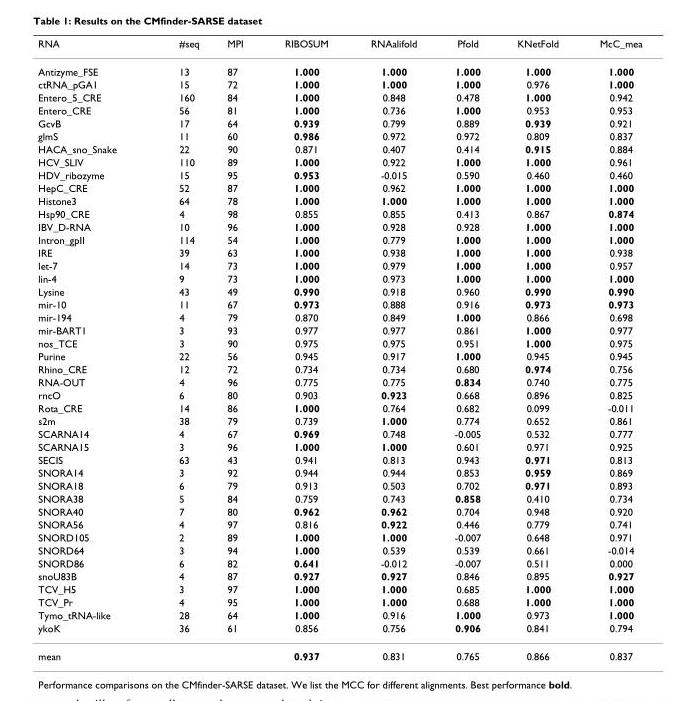table: (37, 37, 641, 661)
table column: (37, 37, 147, 661), (348, 37, 435, 661), (263, 37, 348, 661), (498, 37, 578, 661), (147, 37, 212, 661), (435, 37, 498, 661), (578, 37, 641, 661), (212, 37, 263, 661)
table column header: (37, 37, 641, 57)
table row: (37, 37, 641, 57), (37, 57, 641, 77), (37, 621, 641, 641), (37, 641, 641, 661), (37, 77, 641, 90), (37, 90, 641, 103), (37, 103, 641, 116), (37, 116, 641, 129), (37, 129, 641, 142), (37, 142, 641, 155), (37, 155, 641, 168), (37, 168, 641, 181), (37, 181, 641, 194), (37, 194, 641, 207), (37, 219, 641, 232), (37, 232, 641, 245), (37, 245, 641, 258), (37, 258, 641, 271), (37, 271, 641, 284), (37, 284, 641, 297), (37, 297, 641, 310), (37, 310, 641, 323), (37, 323, 641, 336), (37, 336, 641, 349), (37, 349, 641, 362), (37, 362, 641, 375), (37, 375, 641, 388), (37, 388, 641, 401), (37, 401, 641, 414), (37, 414, 641, 427), (37, 439, 641, 452), (37, 452, 641, 465), (37, 465, 641, 478), (37, 478, 641, 491), (37, 491, 641, 504), (37, 504, 641, 517), (37, 517, 641, 530), (37, 530, 641, 543), (37, 543, 641, 556), (37, 556, 641, 569), (37, 569, 641, 582), (37, 582, 641, 595), (37, 595, 641, 608), (37, 608, 641, 621), (37, 207, 641, 219), (37, 427, 641, 439)
